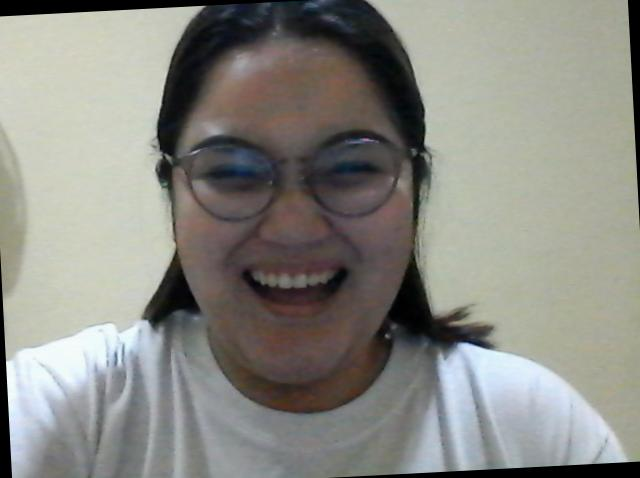senang: (168, 28, 431, 357)
